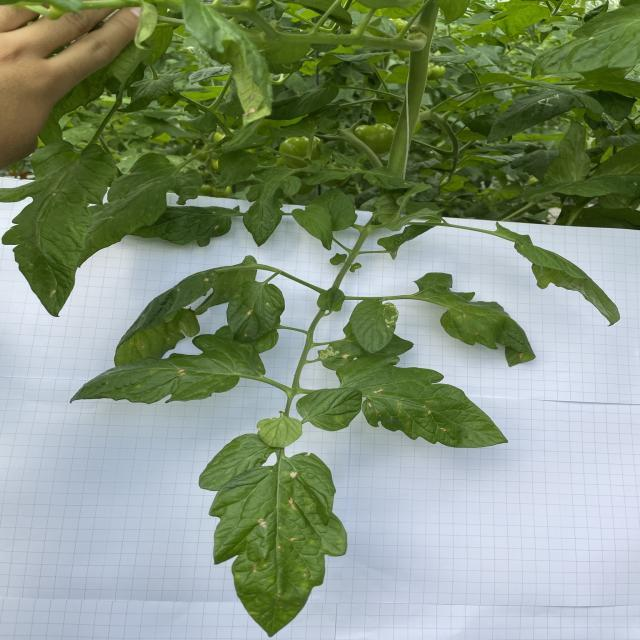Tomato healthy leaf: (290, 204, 334, 251)
Tomato target spot leaf: (317, 332, 414, 370), (350, 298, 400, 354)
